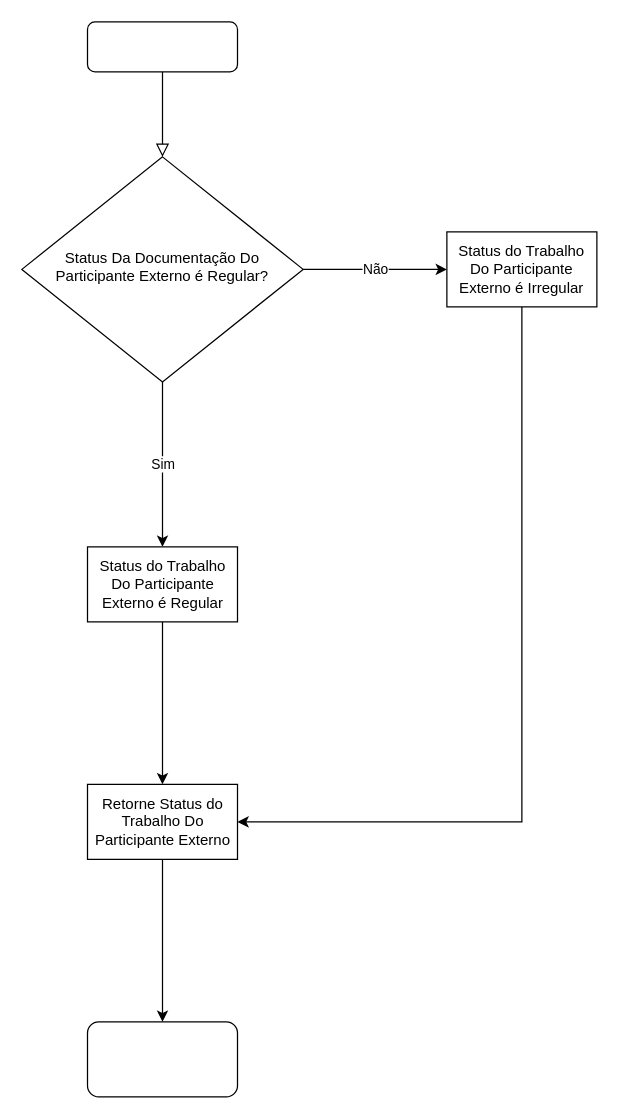
The diagram is 619 pixels wide and 1119 high, and some of its shapes have lost their labels. Each missing label, with the box of its shape:
Fim: (86, 1021, 238, 1097)
Trabalhar: (86, 21, 238, 72)
